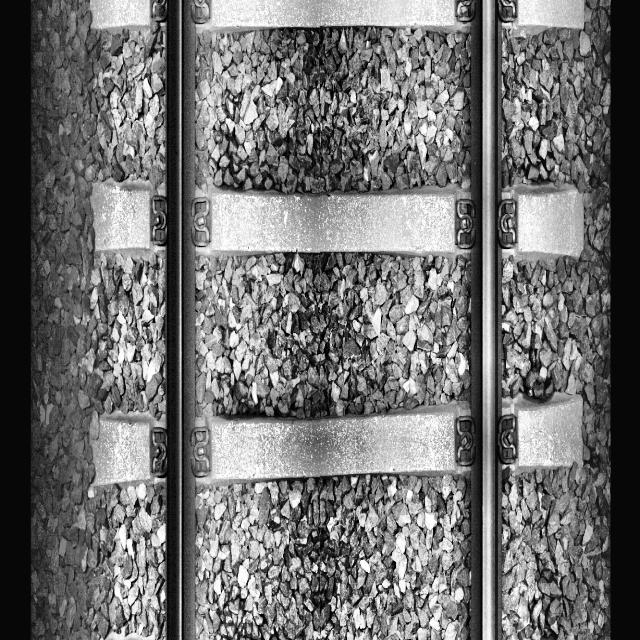Clips: (191, 429, 214, 477), (456, 199, 477, 249), (191, 198, 212, 247), (497, 199, 518, 248), (455, 418, 476, 465), (498, 414, 518, 462), (151, 426, 168, 475), (152, 194, 168, 244), (191, 0, 213, 24), (497, 0, 518, 25), (453, 0, 475, 23), (151, 0, 168, 21)
Sleepers: (90, 395, 582, 486), (90, 173, 585, 260), (88, 0, 582, 28)
